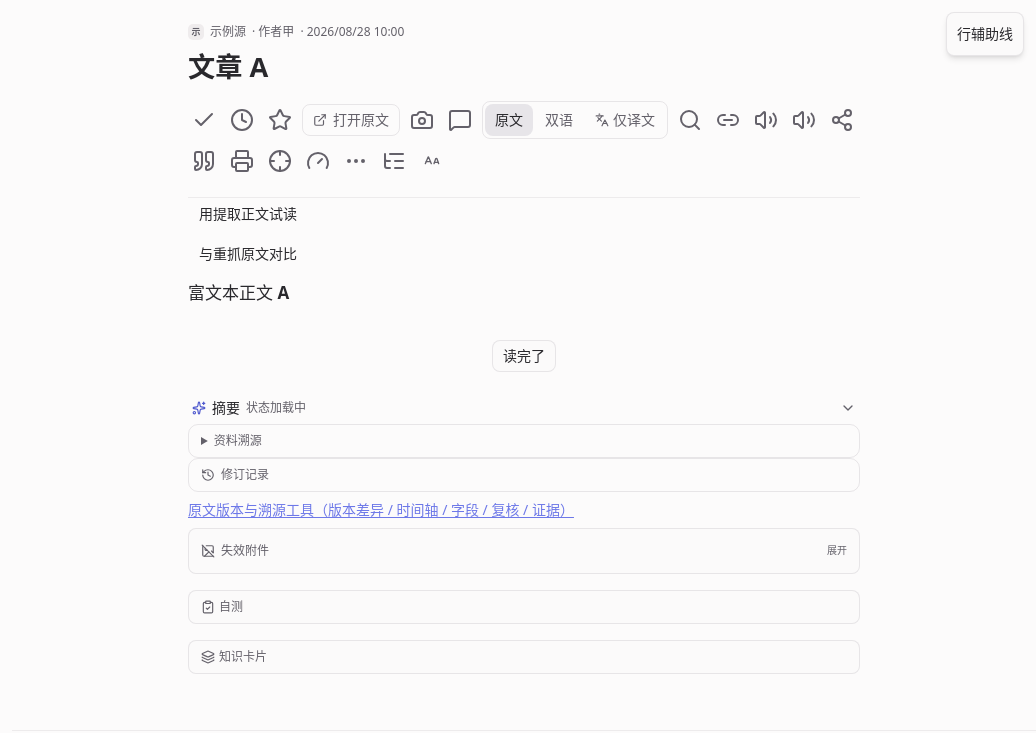
Mutation pending / error UI › PATCH 失败 → 「状态更新失败」，文章与既有状态不被清空/伪造
Click the button named "标记为已读": (204, 120) left=188, top=104, right=220, bottom=136
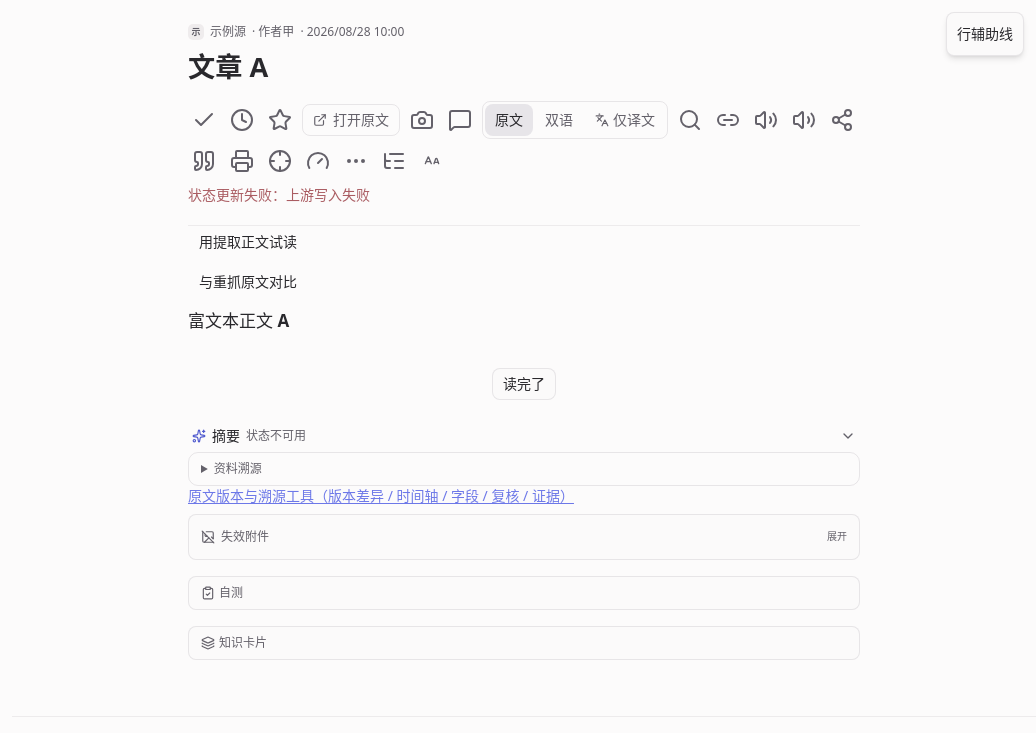
Expected: the heading "文章 A" is shown, left=188, top=48, right=268, bottom=85
Now the text "状态更新失败：上游写入失败" is shown, box left=188, top=185, right=370, bottom=204
